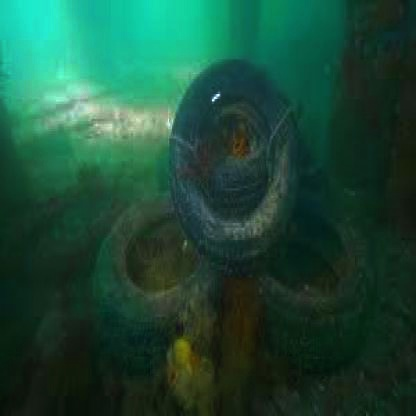tire: (80, 171, 228, 374), (165, 60, 300, 282), (244, 208, 381, 381)
